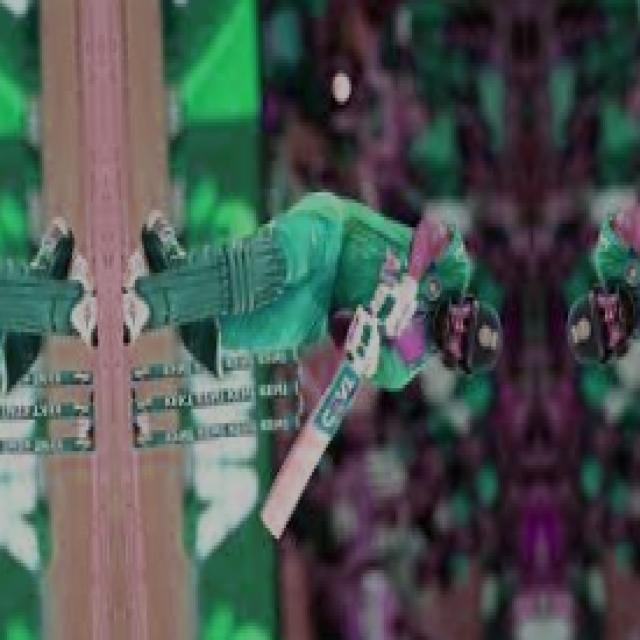toe: (252, 512, 282, 544)
